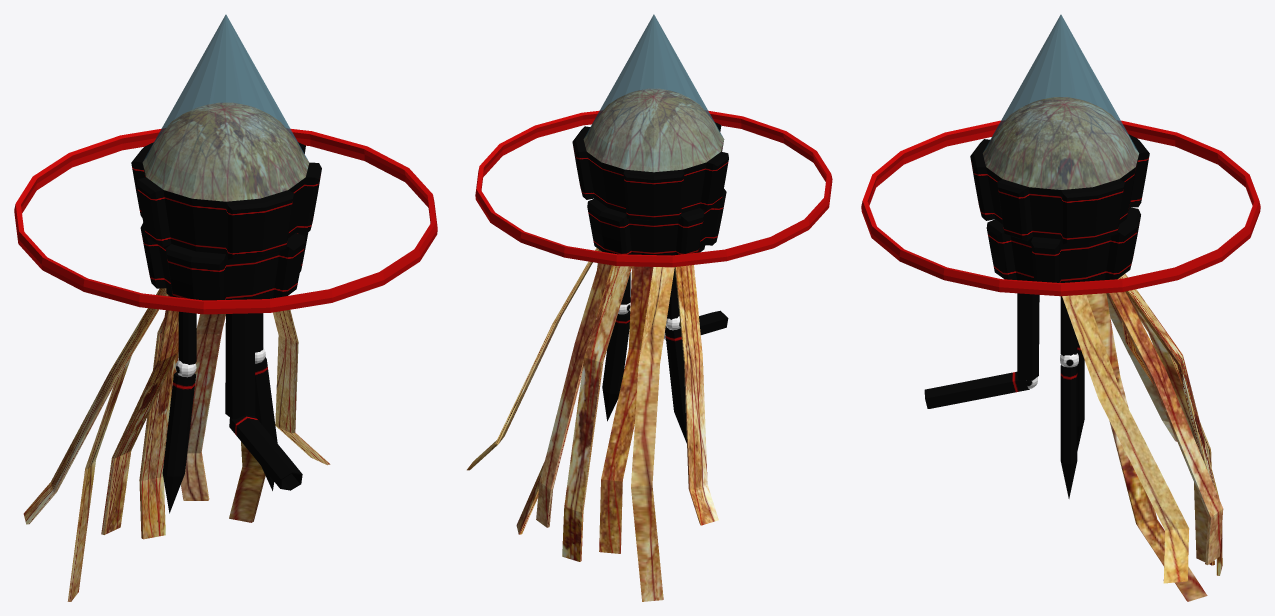
The model's file is dorawn.fbx.
3 views of the same model, side by side, from view 1: azimuth 30°, elevation 25°; view 2: azimuth 150°, elevation 25°; view 3: azimuth 270°, elevation 25° (orthographic). The views are drawn at different scales.
Visible parts, largest first — view 1: doro; view 2: doro; view 3: doro.
Part boxes in pixels (box(x1,y1,x2,y2)): doro: box(14, 14, 437, 601); doro: box(467, 14, 832, 601); doro: box(861, 14, 1260, 601).
Bounding box in the file's own units: 155 × 248 × 155.
Materials: 2 (1 with a texture image).
